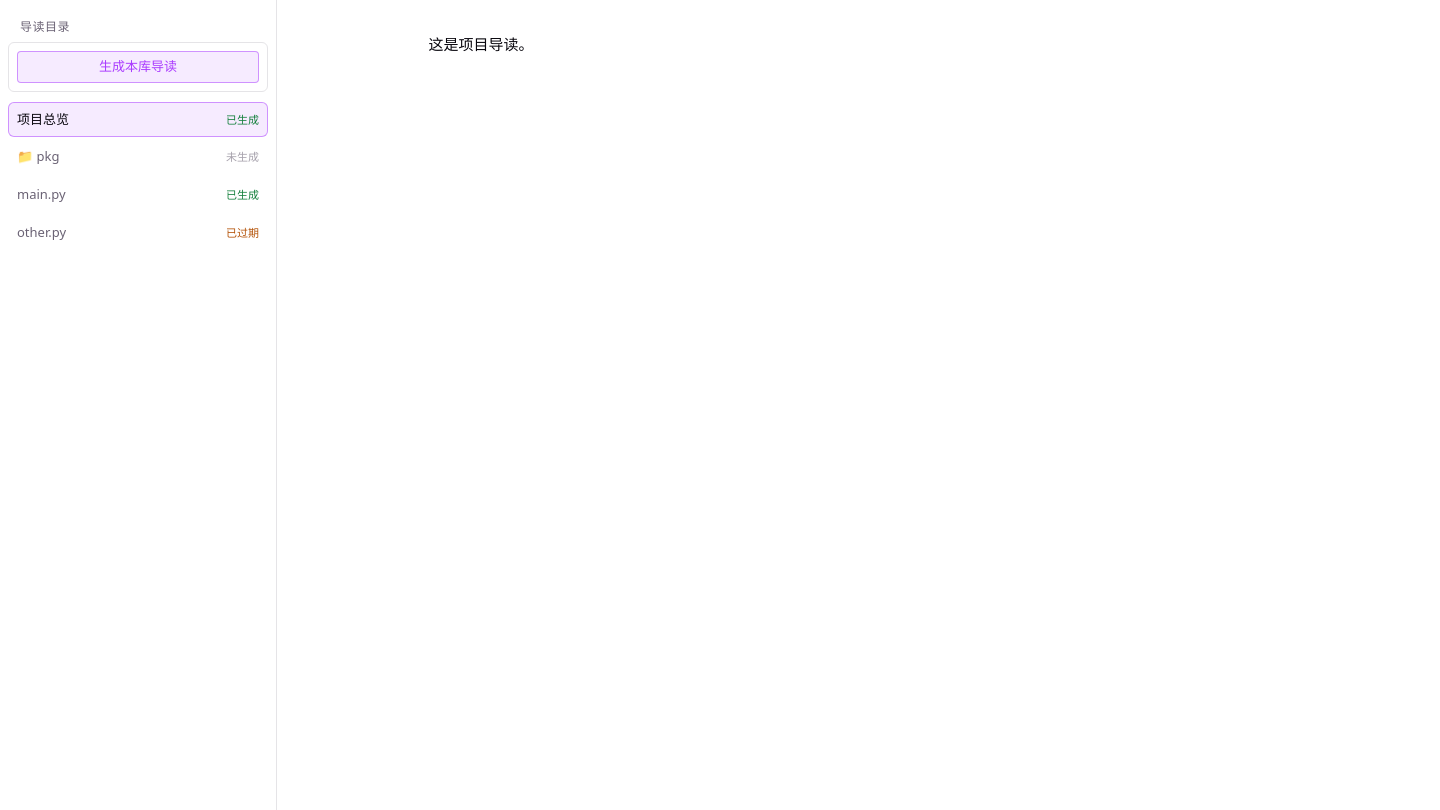
Scenario: GuidePage — 正文渲染 › none 状态 → 显示「生成导读」按钮
The image size is (1440, 810).
Click the text "📁 pkg" at (38, 157), box [17,146,60,168]
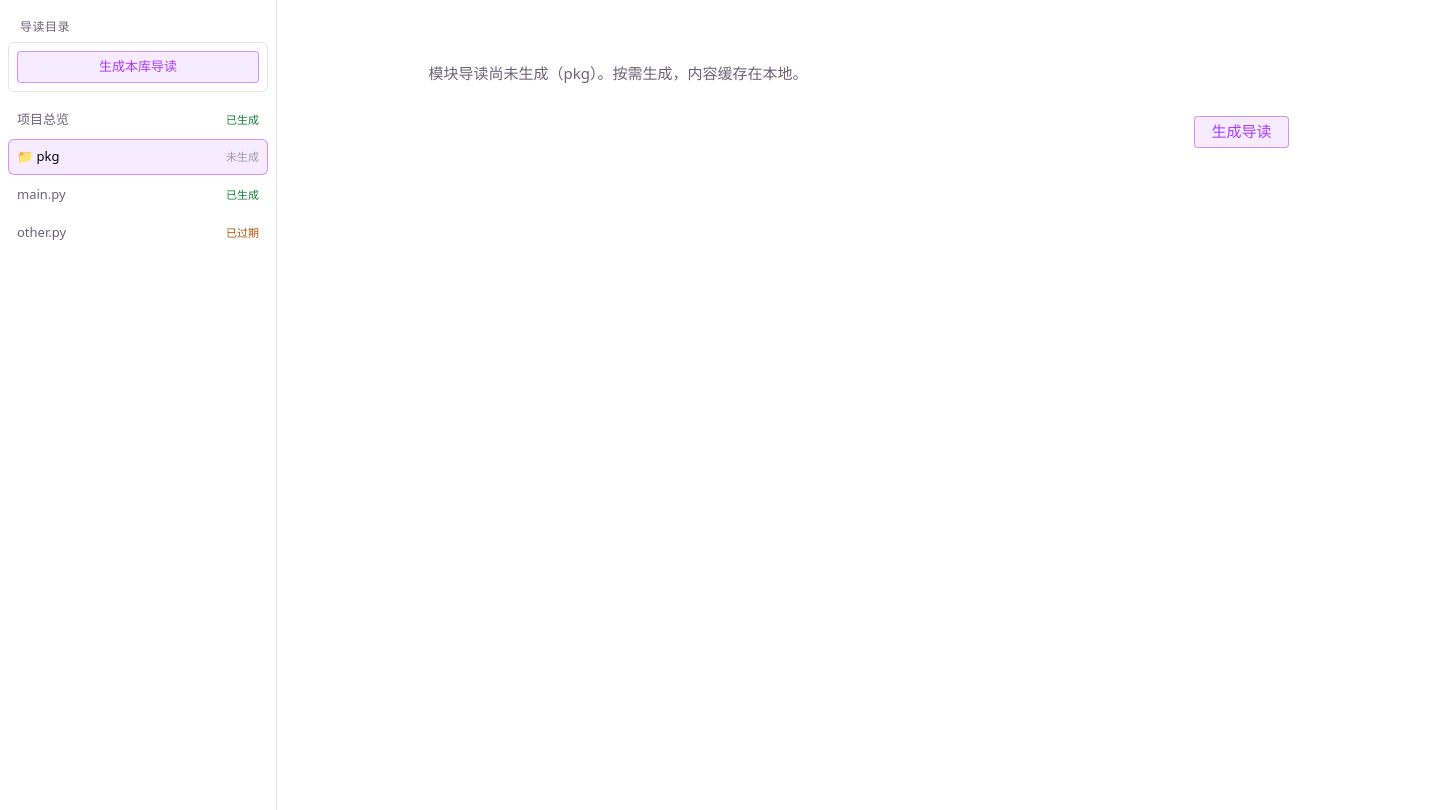
Now the button "生成导读" is shown, box [1194,116,1288,148]
